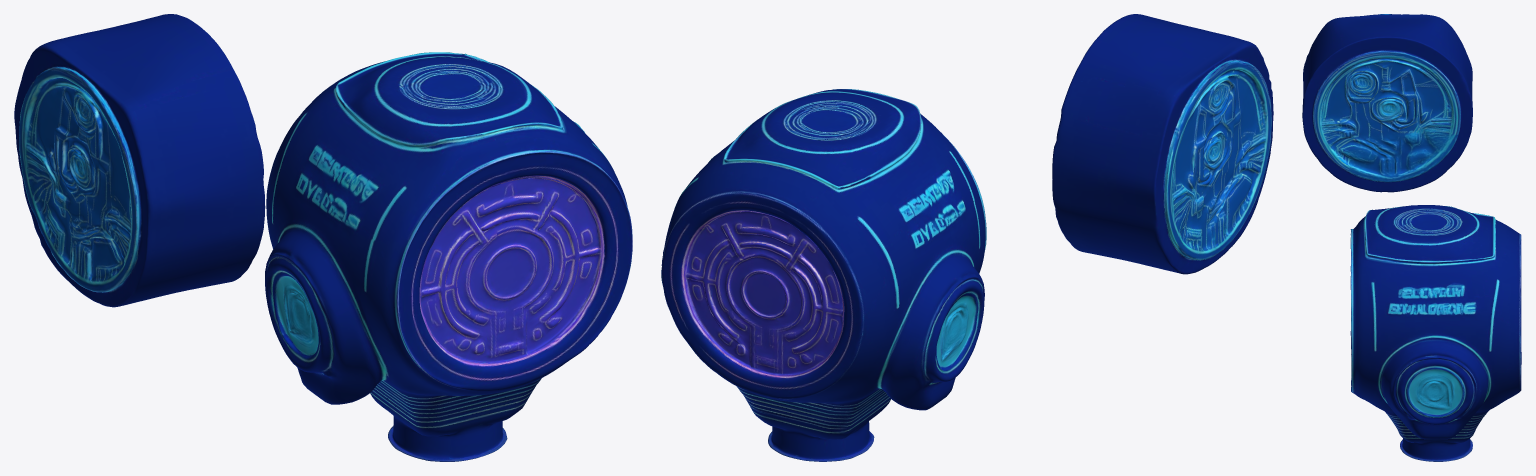
Rendered from neuro_arena_environment_model_fbx.fbx.
The picture shows the model from 3 angles, left to right: view 1: azimuth 30°, elevation 25°; view 2: azimuth 150°, elevation 25°; view 3: azimuth 270°, elevation 25°; orthographic projection. The views are drawn at different scales.
Parts seen in each view (by area): view 1: Empty; view 2: Empty; view 3: Empty.
Boxes of the visible parts, x1,y1,x2,y2 form: Empty: (14,14,632,461); Empty: (661,14,1273,461); Empty: (1302,14,1521,461).
Size of the model in its own units: 1.38 by 1.2 by 0.7426.
Materials: 1 (1 with a texture image).
